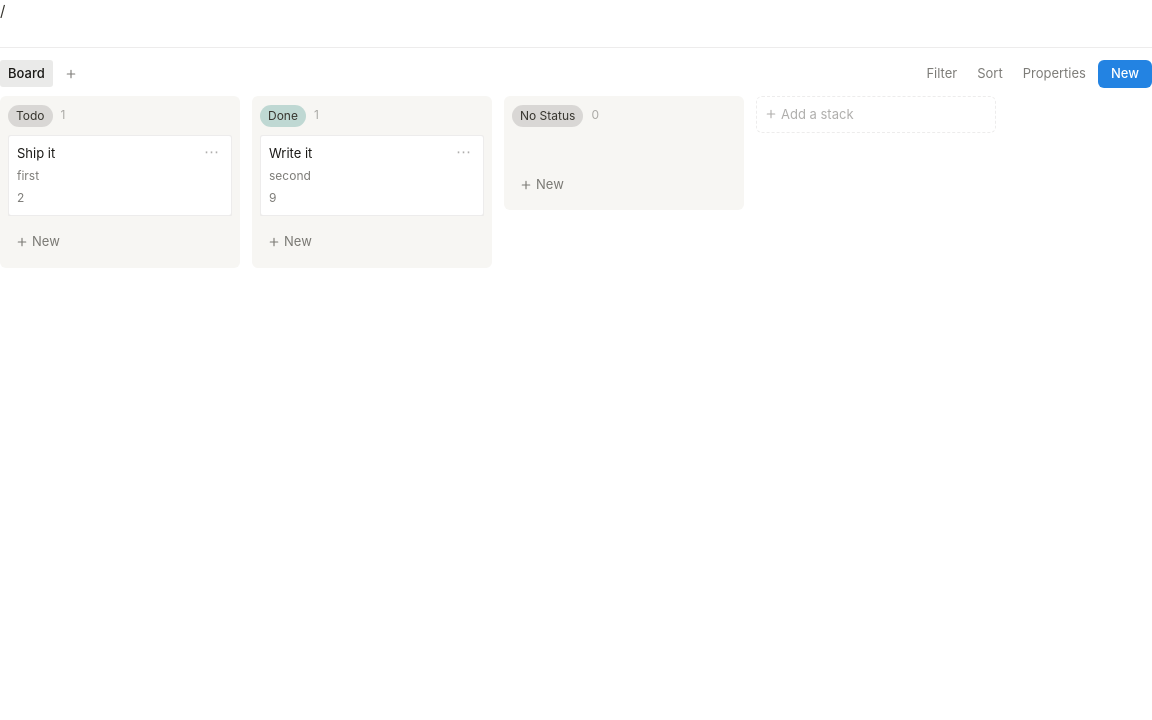
Test: the board › opens a card in the record panel
expect the element with test id "db-board" is shown: met, box [0,96,1151,276]
What coordinates should you click on to do the following:
click the button "Ship it"
I would click on:
 (106, 154)
Its box is [17,144,196,163].
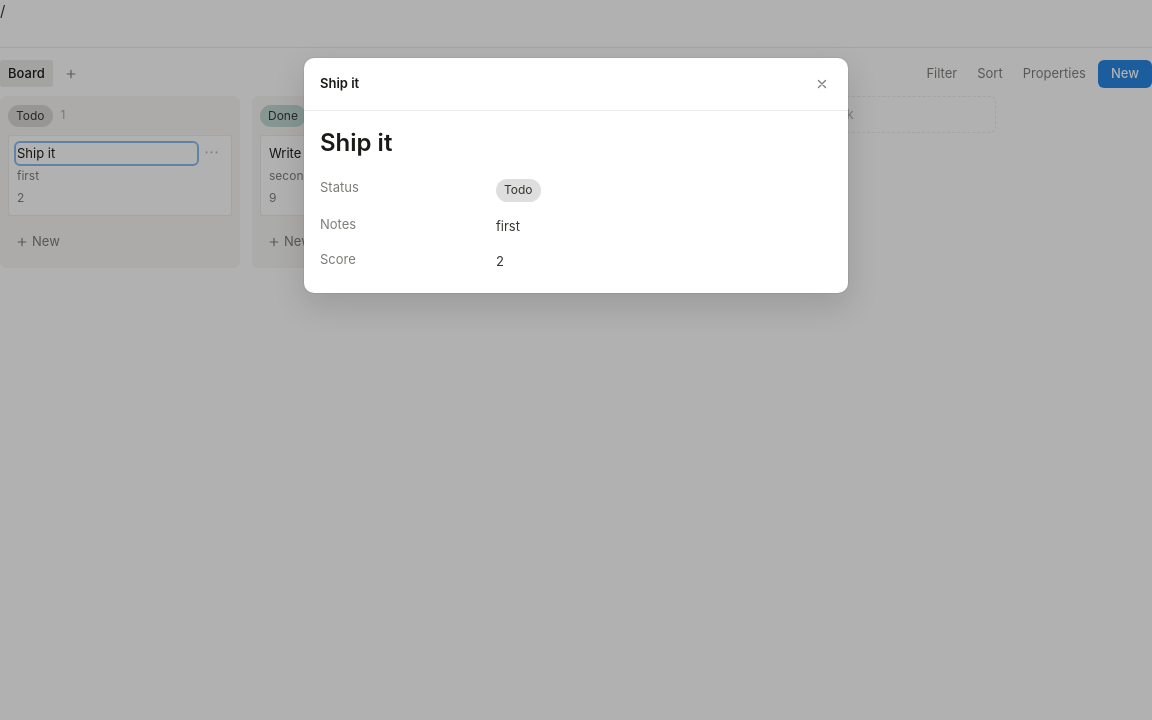
expect the field named "Row title" holds "Ship it": met, box [320,127,832,158]
